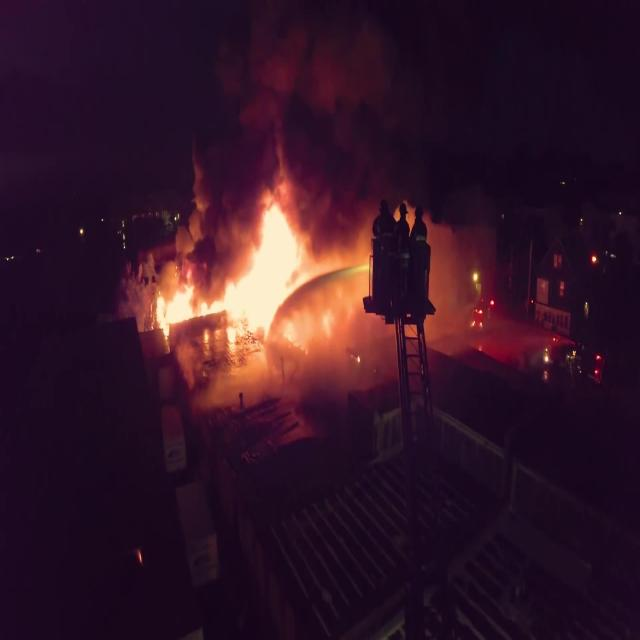Fire: (149, 204, 347, 356)
Smoke: (182, 0, 373, 308)
